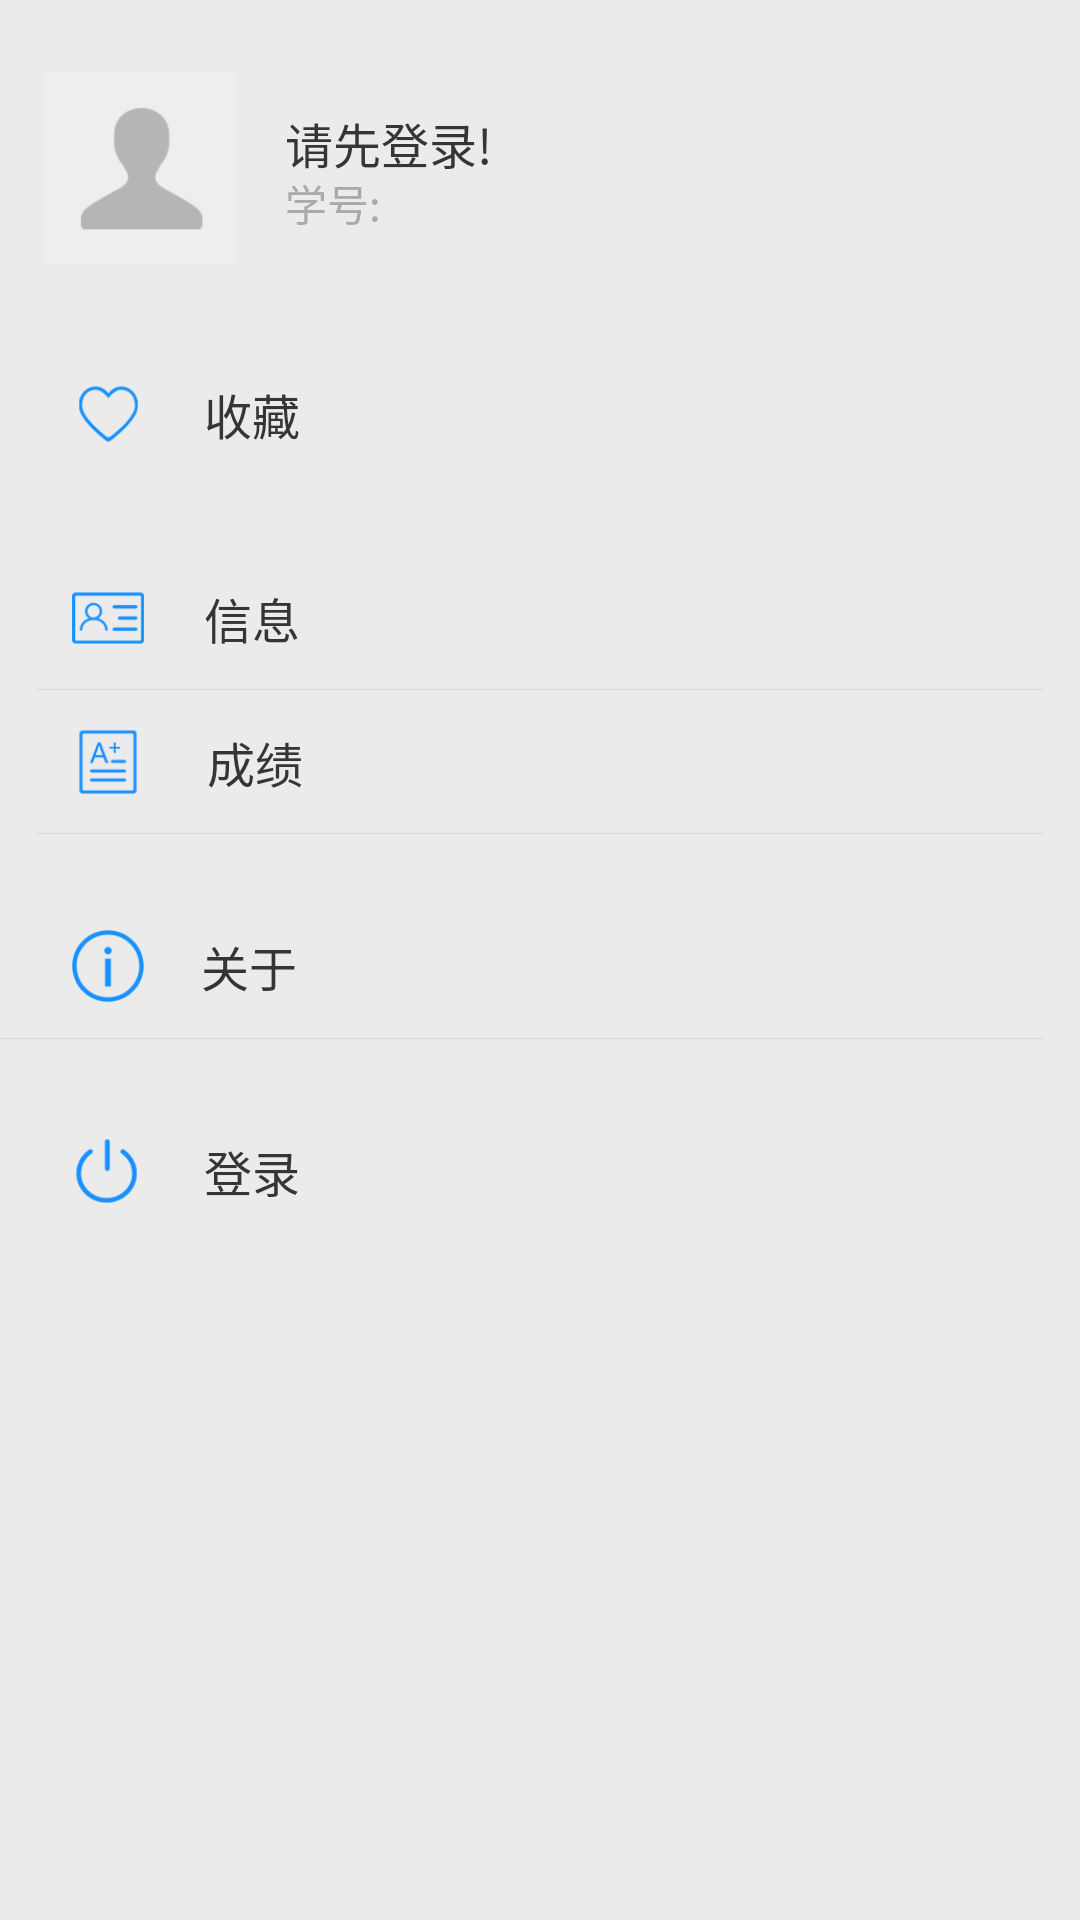

Where icons sit on this 1080×1920 app screen, as bbox=(x1, y1, x2, y2):
about: bbox=(72, 930, 144, 1002)
exit: bbox=(76, 1139, 137, 1203)
info me: bbox=(72, 592, 144, 644)
score me: bbox=(79, 730, 137, 794)
shoucang: bbox=(79, 386, 138, 442)
useravatar: bbox=(81, 108, 202, 229)
